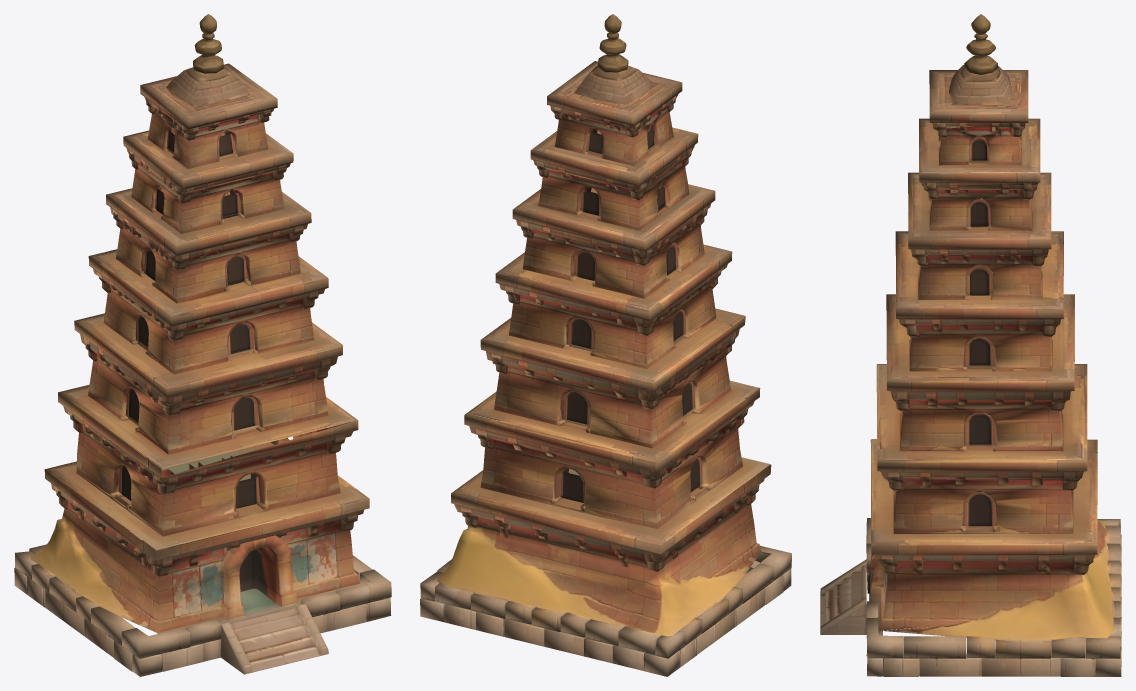
The model's file is SM_Tripo_DesertTemplePagoda.glb.
The picture shows the model from 3 angles, left to right: view 1: azimuth 30°, elevation 25°; view 2: azimuth 150°, elevation 25°; view 3: azimuth 270°, elevation 25°; orthographic projection. The views are drawn at different scales.
Parts seen in each view (by area): view 1: SM_Tripo_DesertTemplePagoda_LOD0; view 2: SM_Tripo_DesertTemplePagoda_LOD0; view 3: SM_Tripo_DesertTemplePagoda_LOD0.
Part boxes in pixels (<box>): SM_Tripo_DesertTemplePagoda_LOD0: <box>14,14,391,676</box>; SM_Tripo_DesertTemplePagoda_LOD0: <box>420,14,791,676</box>; SM_Tripo_DesertTemplePagoda_LOD0: <box>820,14,1121,676</box>.
Size of the model in its own units: 9.93 by 22.16 by 10.08.
Materials: 1 (1 with a texture image).
